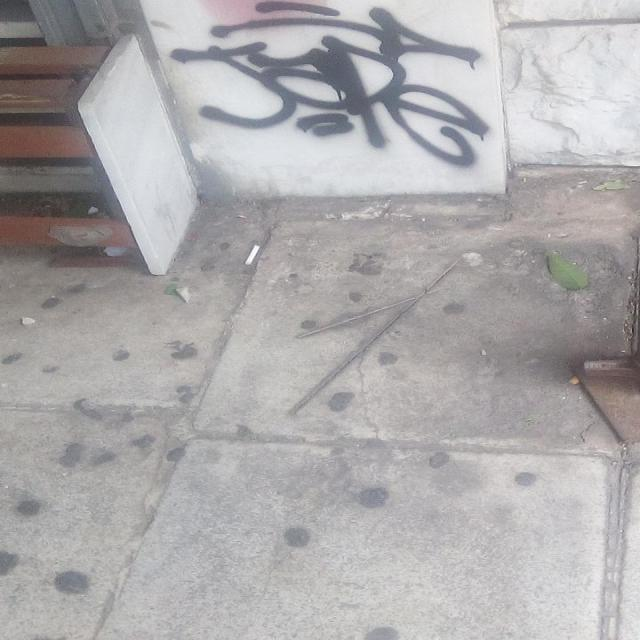nonspitting: (174, 2, 491, 170)
